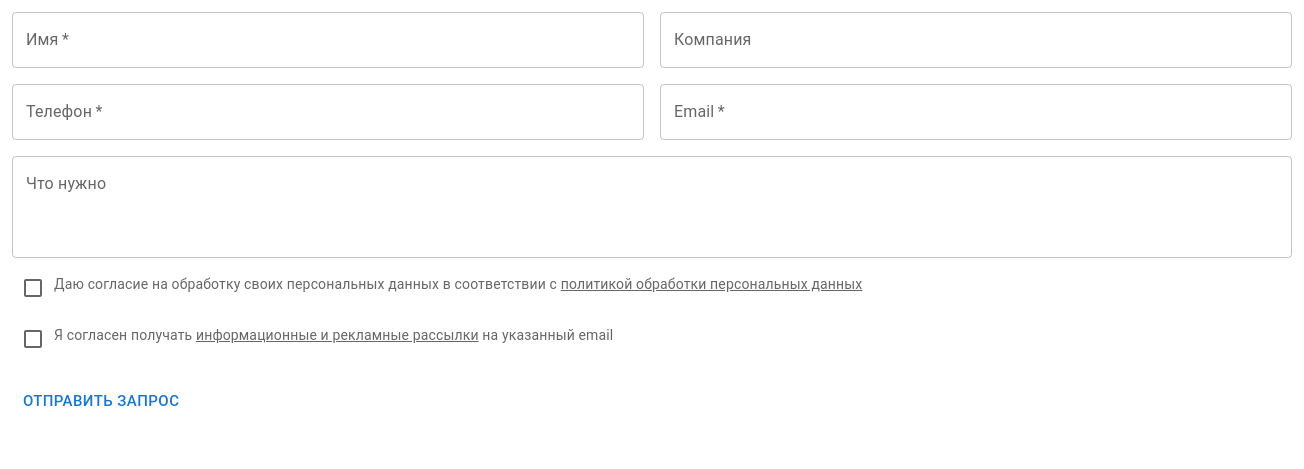
Test: ContactForm › does not submit when the required consents are missing
Type "Ирина" into the field labelled "Имя *" at [328, 40], box [12,12,644,68]
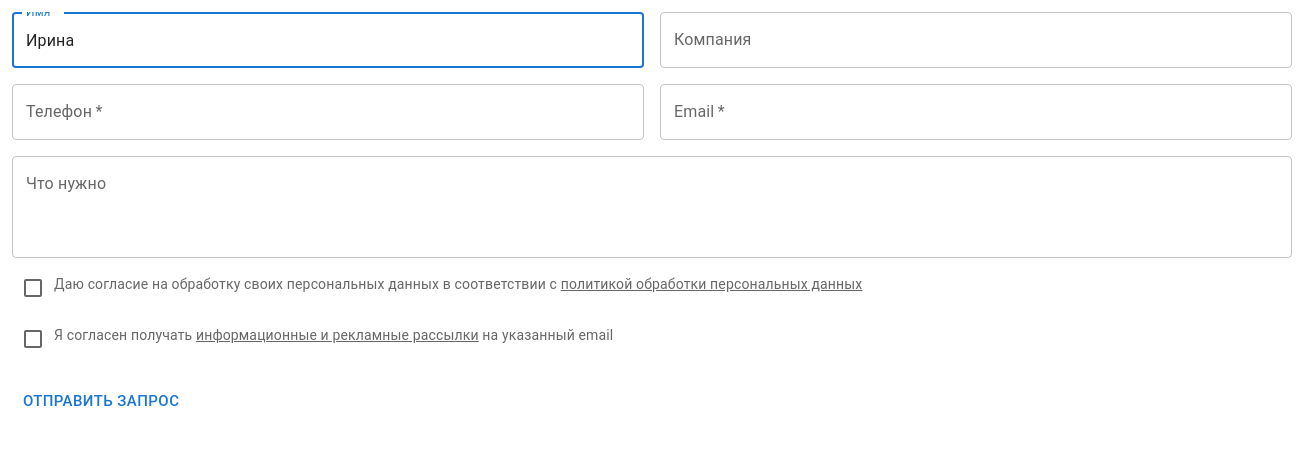
Type "+7 900 000-00-00" into the field labelled "Телефон *" at [328, 112], box [12,84,644,140]
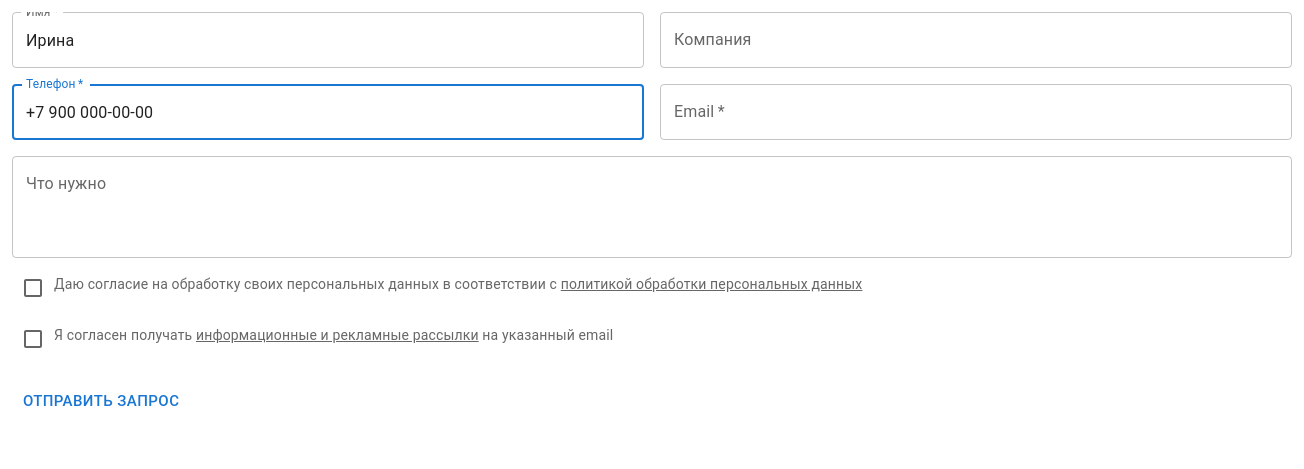
Type "irina@example.com" into the field labelled "Email *" at [976, 112], box [660,84,1292,140]
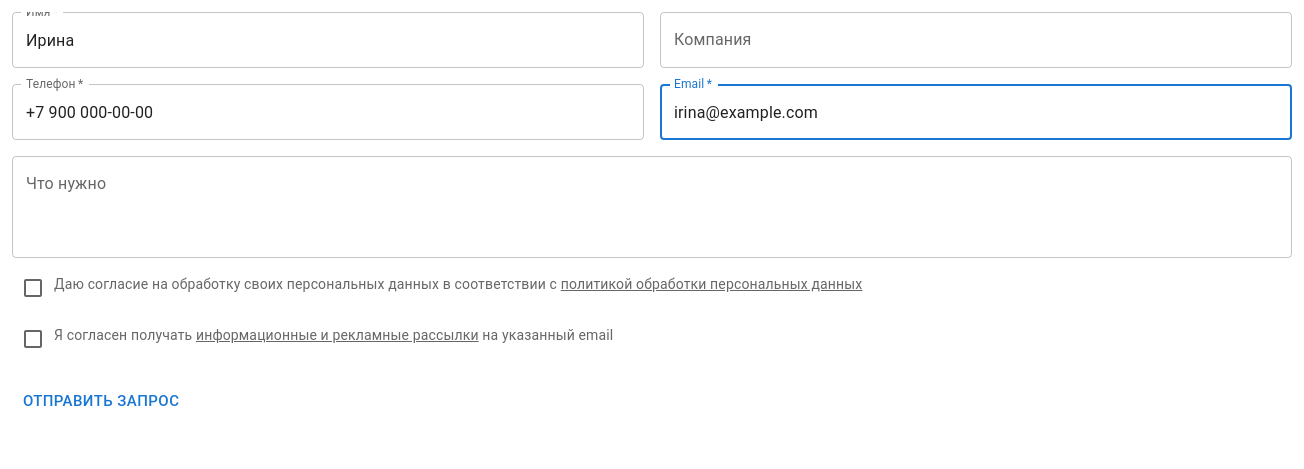
Click the button "Отправить запрос" at [101, 401], box [12,380,190,422]
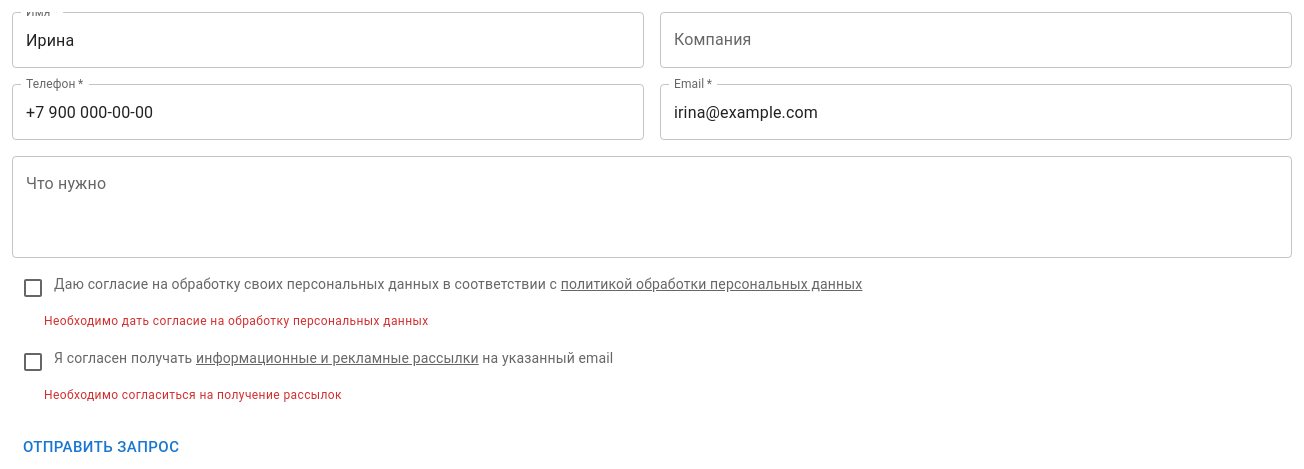
Now the text "Необходимо дать согласие на обработку персональных данных" is shown, box [44,314,429,328]
Now the text "Необходимо согласиться на получение рассылок" is shown, box [44,388,342,402]
